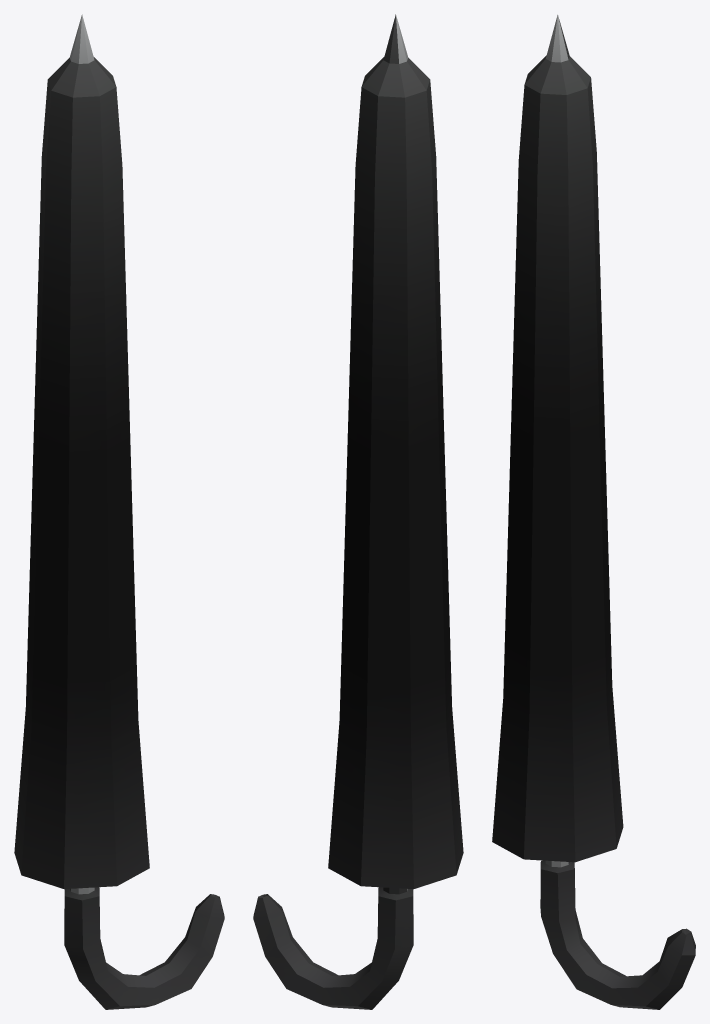
Rendered from Umbrella_Closed.fbx.
3 renders of one model, left to right at view 1: azimuth 30°, elevation 25°; view 2: azimuth 150°, elevation 25°; view 3: azimuth 330°, elevation 25°, orthographic. The views are drawn at different scales.
Visible parts, largest first — view 1: Umbrella_Closed; view 2: Umbrella_Closed; view 3: Umbrella_Closed.
Boxes of the visible parts, x1,y1,x2,y2 form: Umbrella_Closed: [14, 14, 224, 1009]; Umbrella_Closed: [253, 14, 463, 1009]; Umbrella_Closed: [492, 14, 695, 1009].
Bounding box in the file's own units: 17.02 × 80.83 × 10.18.
